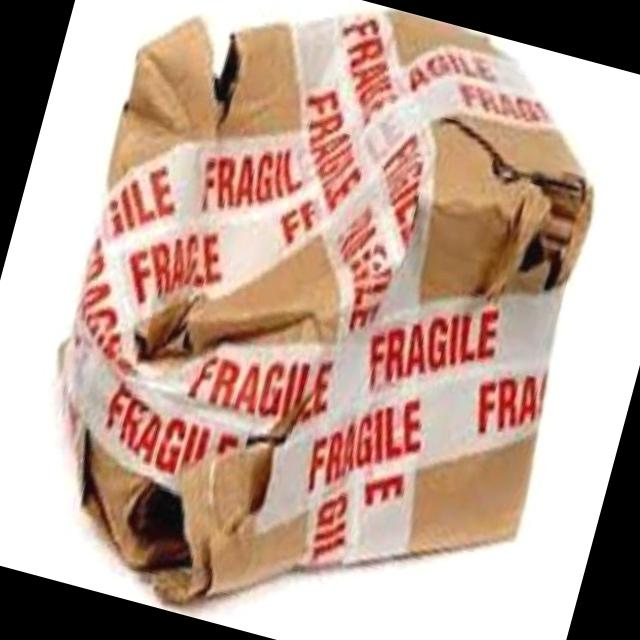box: (57, 1, 592, 607)
crushed: (137, 188, 358, 361)
tear: (447, 117, 589, 294), (97, 447, 225, 604), (164, 12, 257, 130)
